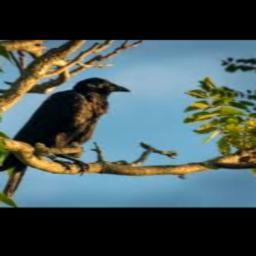Crow: (0, 77, 131, 197)
